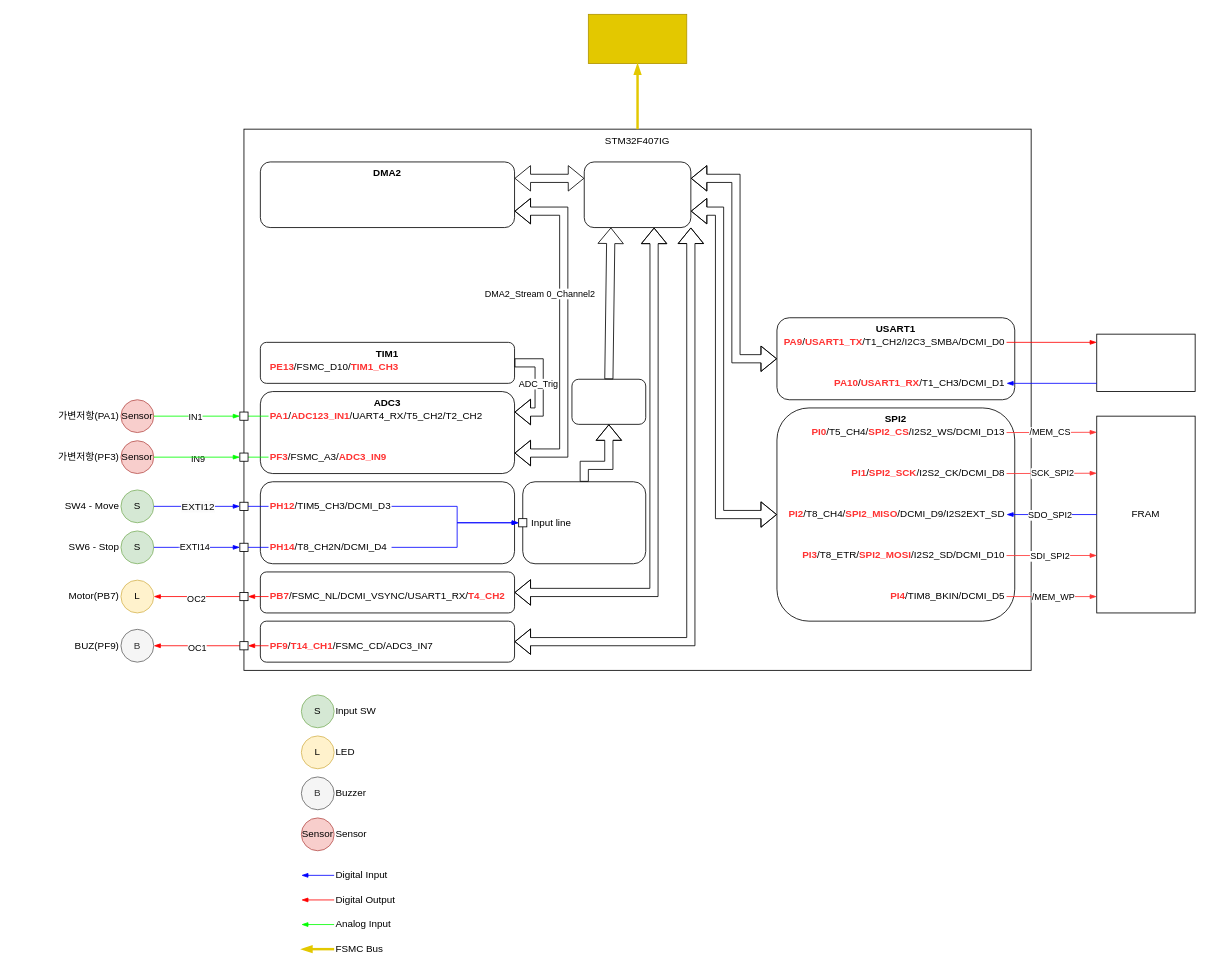
This 1210x972 diagram has some shape labels left out. The box of each missing label's shape, as (x1, y1, x2, y2) in pixels:
Arm Cortex-M4: (583, 161, 691, 228)
EXTI/Event Controller: (522, 481, 646, 564)
GLCD: (588, 14, 687, 64)
GPIO H: (260, 481, 515, 564)
NVIC: (571, 378, 646, 424)
PC: (1096, 333, 1195, 392)
TIM14: (260, 620, 515, 662)
TIM4: (260, 571, 515, 613)
